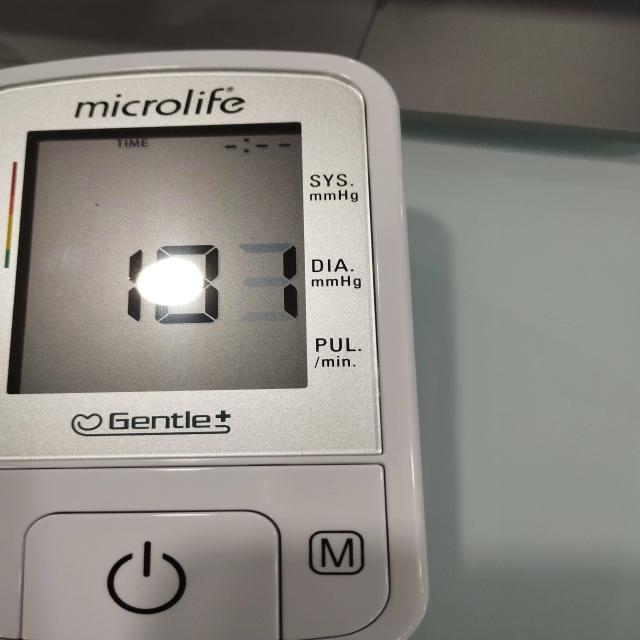bp: (0, 51, 430, 640)
